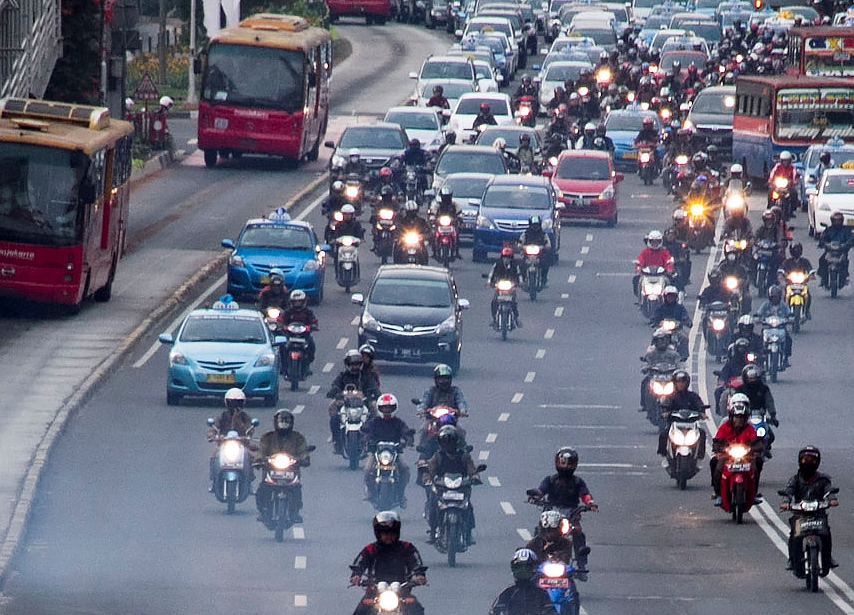bus: (0, 95, 132, 301), (181, 12, 330, 165)
mobil: (167, 298, 276, 403), (215, 201, 324, 300), (361, 265, 463, 369), (539, 147, 629, 232)
sepeda: (636, 238, 778, 513), (367, 386, 479, 568), (208, 386, 305, 539), (773, 438, 846, 595), (482, 238, 525, 347)
